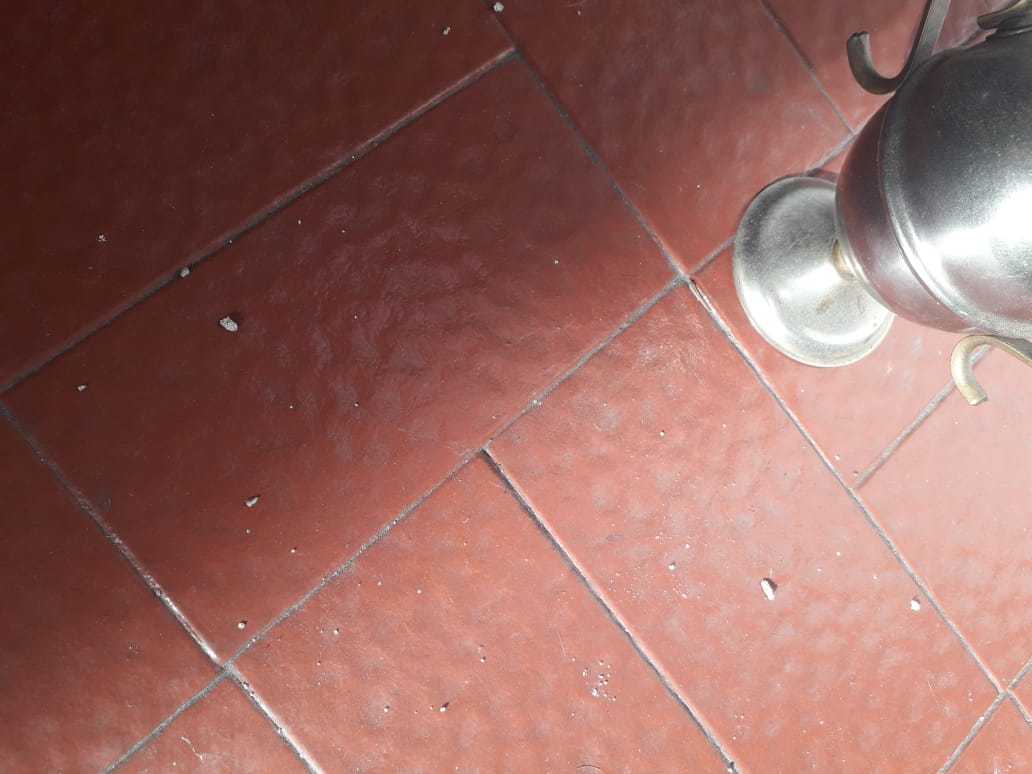mate: (732, 2, 1032, 406)
metal: (730, 1, 1030, 404)
